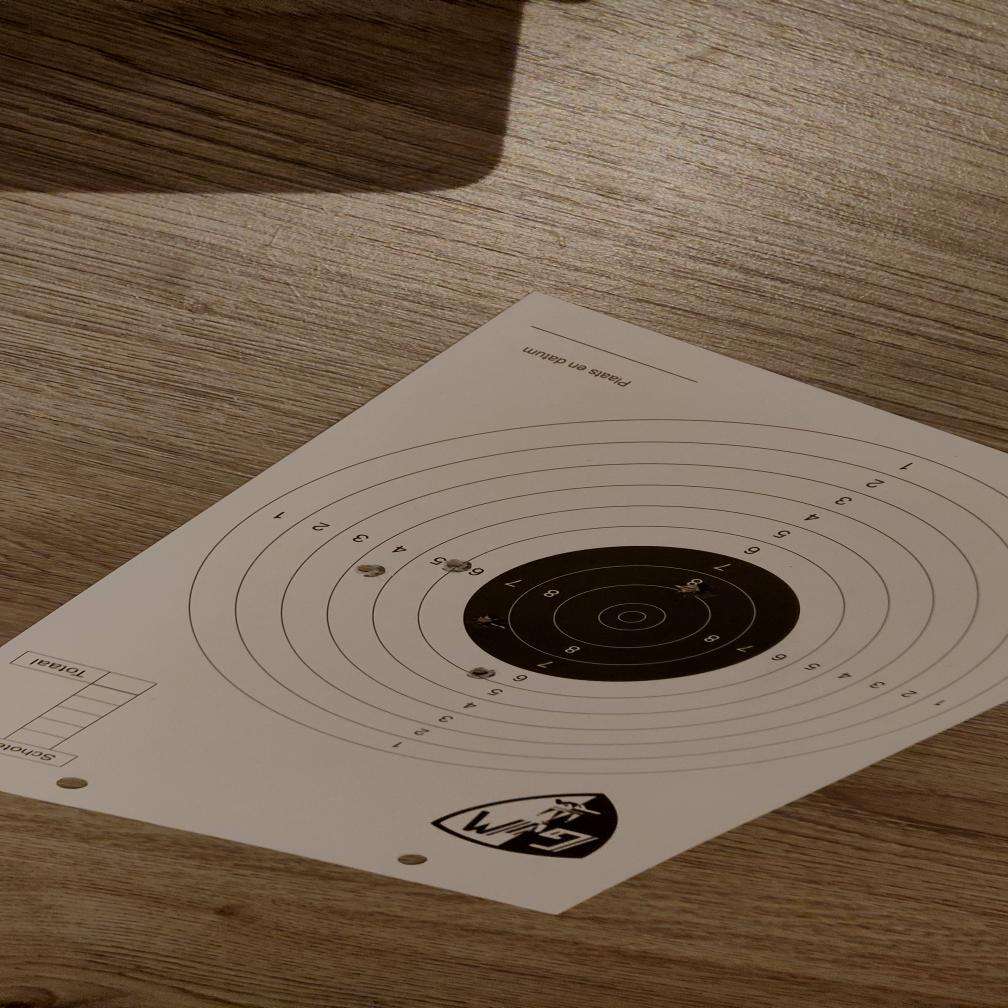4: (351, 562, 388, 578)
6: (441, 559, 473, 574), (465, 666, 497, 680)
7: (469, 615, 508, 629)
9: (674, 584, 720, 597)
Target: (186, 419, 1008, 776)
black_contour: (464, 545, 804, 683)
